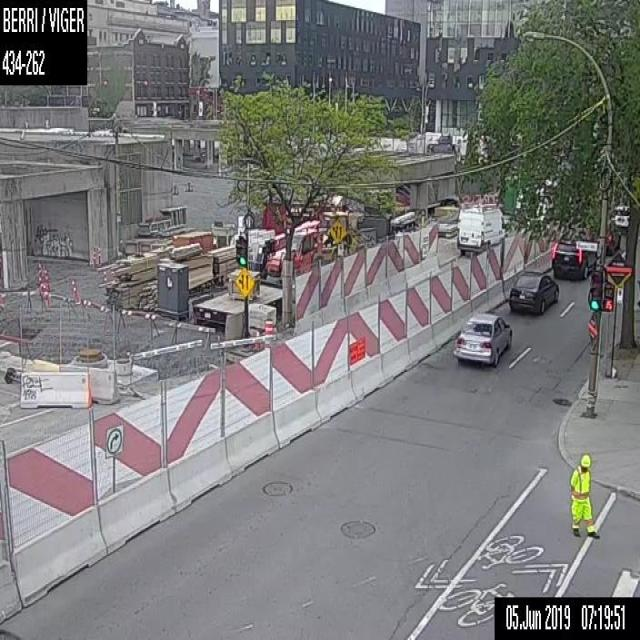construction: (0, 121, 572, 618), (263, 317, 274, 348)
pedestrian: (568, 449, 598, 536)
vehicle: (452, 309, 513, 367), (454, 200, 506, 255), (508, 268, 559, 315), (551, 232, 597, 278), (608, 204, 631, 234)
